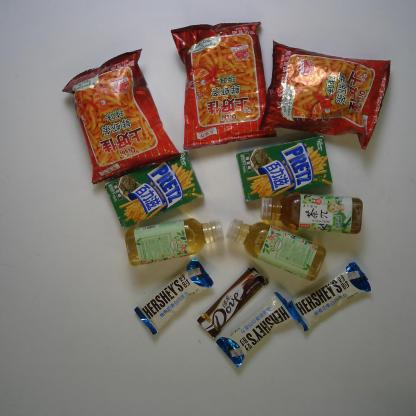Chocolate: (130, 256, 215, 338), (210, 292, 296, 370), (285, 259, 372, 334), (195, 262, 276, 338)
Dessert: (104, 149, 204, 235), (235, 135, 338, 205)
Drink: (222, 218, 328, 280), (122, 212, 226, 270), (258, 186, 365, 238)
Puffed Food: (58, 46, 179, 186), (258, 38, 397, 151), (167, 18, 277, 153)
